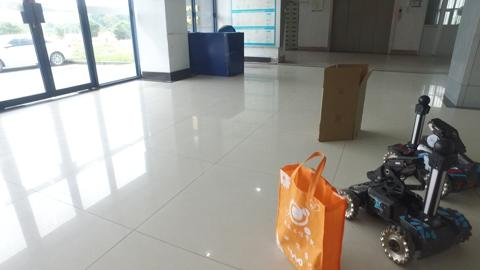bag: (275, 145, 349, 270)
box: (322, 63, 367, 141)
chariot: (339, 136, 471, 260), (382, 87, 474, 170)
